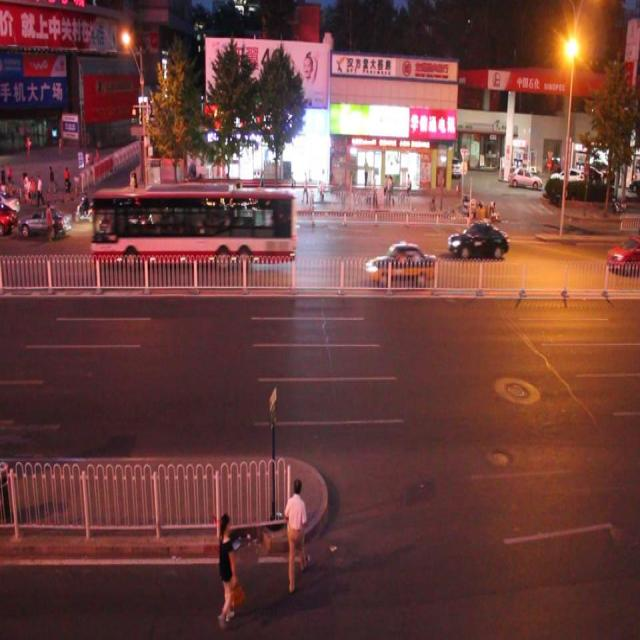bus: (153, 184, 240, 259)
car: (362, 242, 437, 284), (446, 219, 507, 260), (17, 197, 72, 238), (100, 200, 154, 240), (604, 234, 640, 272)
van: (90, 185, 295, 267)
